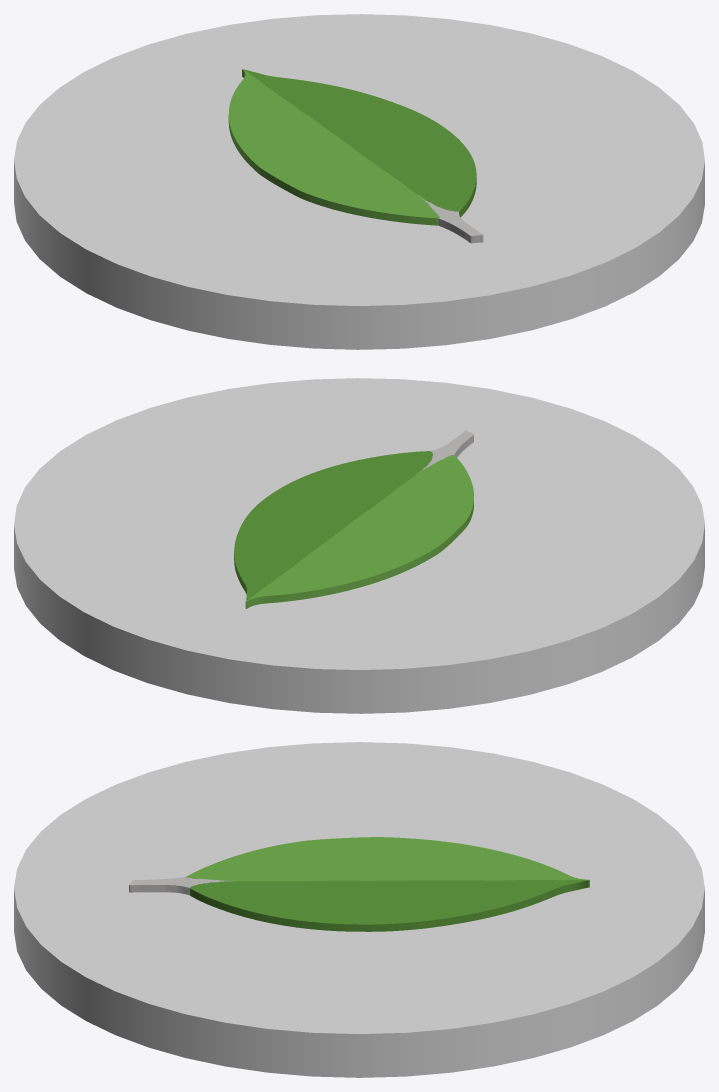
File: mongodb.gltf
3 views of the same model, one above another, from view 1: azimuth 30°, elevation 25°; view 2: azimuth 150°, elevation 25°; view 3: azimuth 270°, elevation 25° (orthographic).
Parts seen in each view (by area): view 1: Curve.015, Curve.017, Curve.016, Curve.018; view 2: Curve.015, Curve.017, Curve.016, Curve.018; view 3: Curve.015, Curve.016, Curve.017, Curve.018.
Boxes of the visible parts, box(x1,y1,x2,y2) form: Curve.015: box(14, 14, 704, 349); Curve.017: box(228, 69, 439, 225); Curve.016: box(244, 69, 476, 217); Curve.018: box(418, 195, 483, 243); Curve.015: box(14, 378, 704, 713); Curve.017: box(245, 455, 473, 608); Curve.016: box(234, 451, 432, 600); Curve.018: box(417, 430, 473, 473); Curve.015: box(14, 742, 704, 1077); Curve.016: box(189, 880, 588, 931); Curve.017: box(185, 837, 589, 887); Curve.018: box(129, 877, 233, 895).
Size of the model in its own units: 0.859 by 0.08 by 0.8588.
